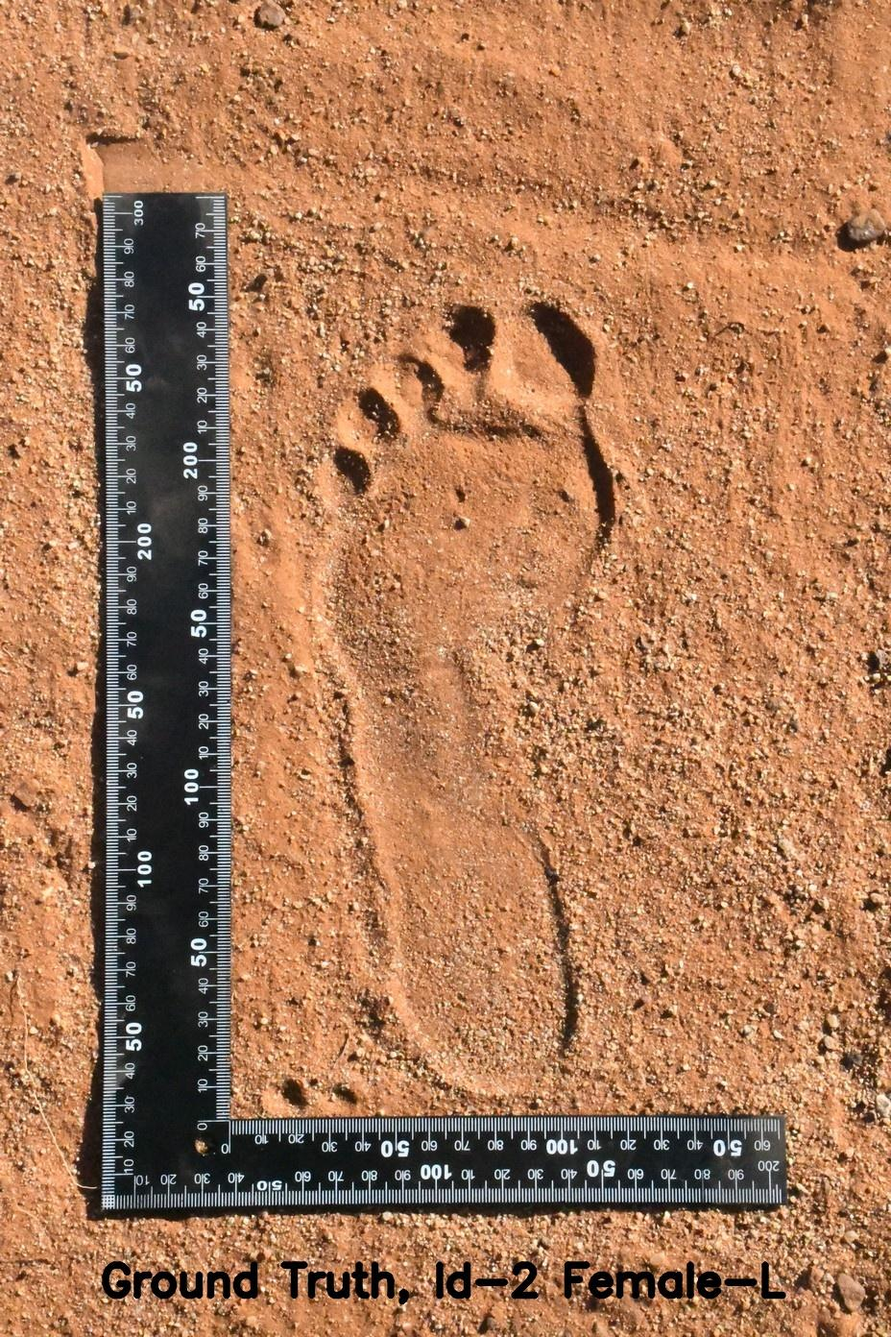human_footprint: (282, 247, 653, 1101)
